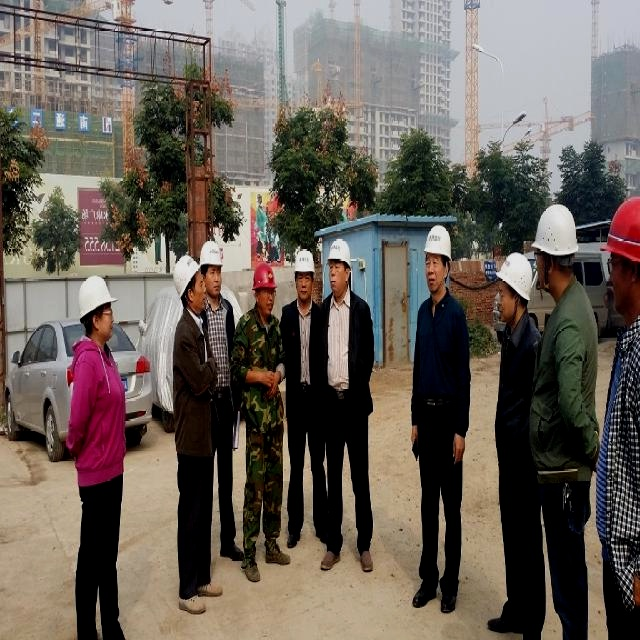Con_Casco: (533, 203, 578, 290), (425, 224, 451, 291)
Sin_Chaleco: (415, 292, 464, 410), (318, 291, 371, 400)
